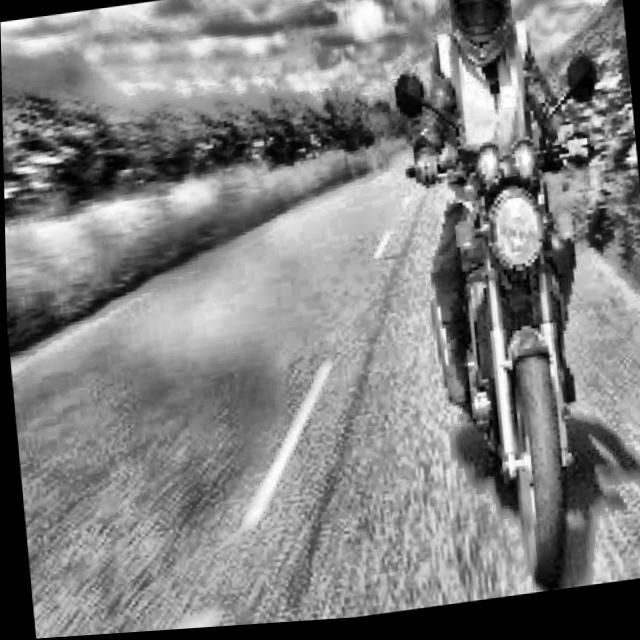motorcycle: (361, 28, 640, 616)
